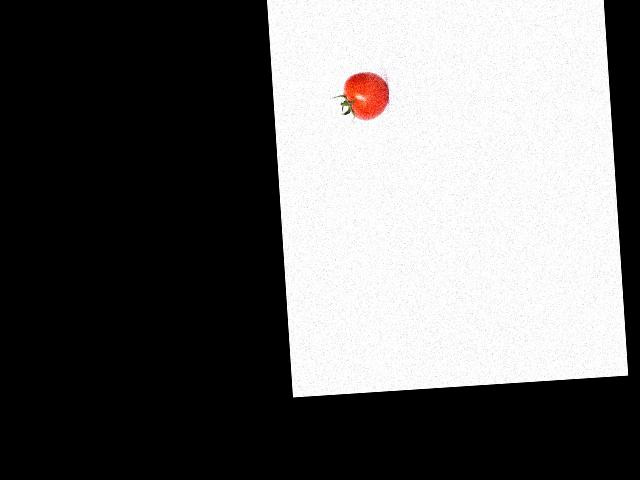tomato: (342, 70, 389, 121)
